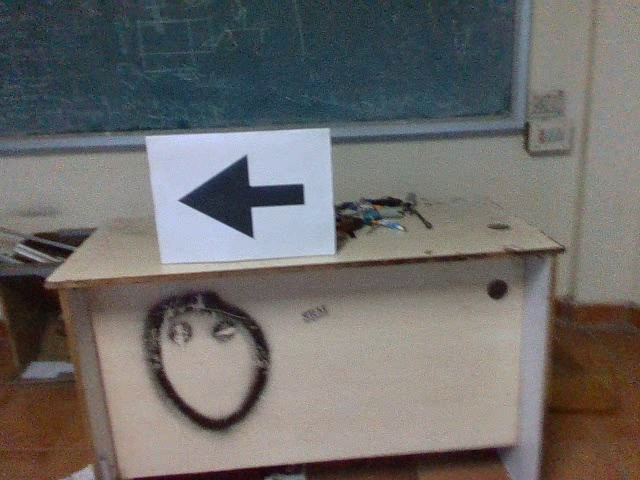Left: (167, 151, 312, 248)
